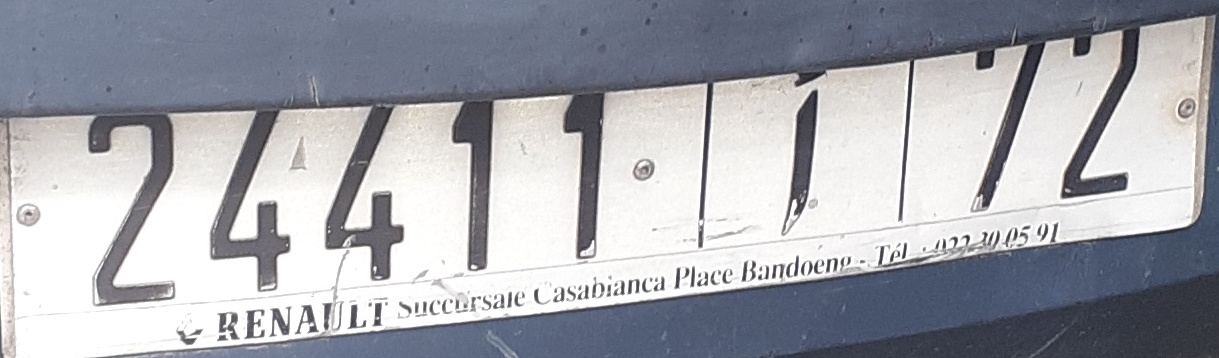1: (553, 88, 612, 265), (443, 92, 502, 266)
2: (78, 106, 184, 308), (1058, 13, 1138, 198)
4: (203, 109, 296, 293), (318, 95, 405, 282)
7: (973, 37, 1048, 213)
a: (776, 63, 835, 242)
